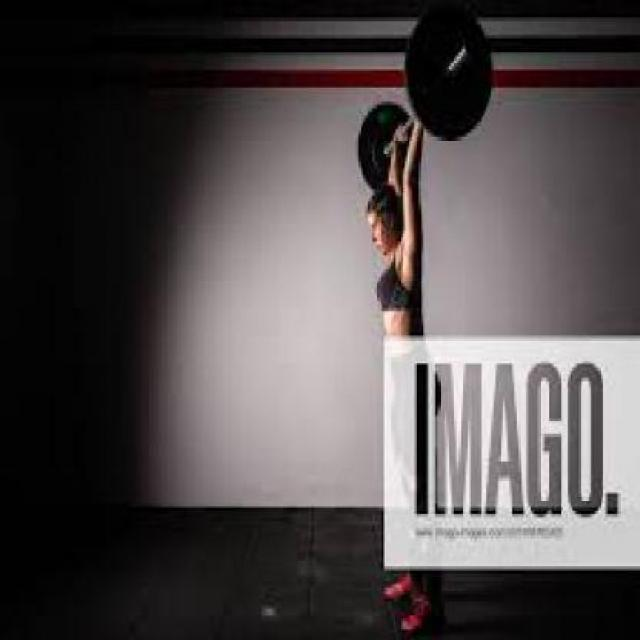Barbell: (458, 36, 478, 75)
